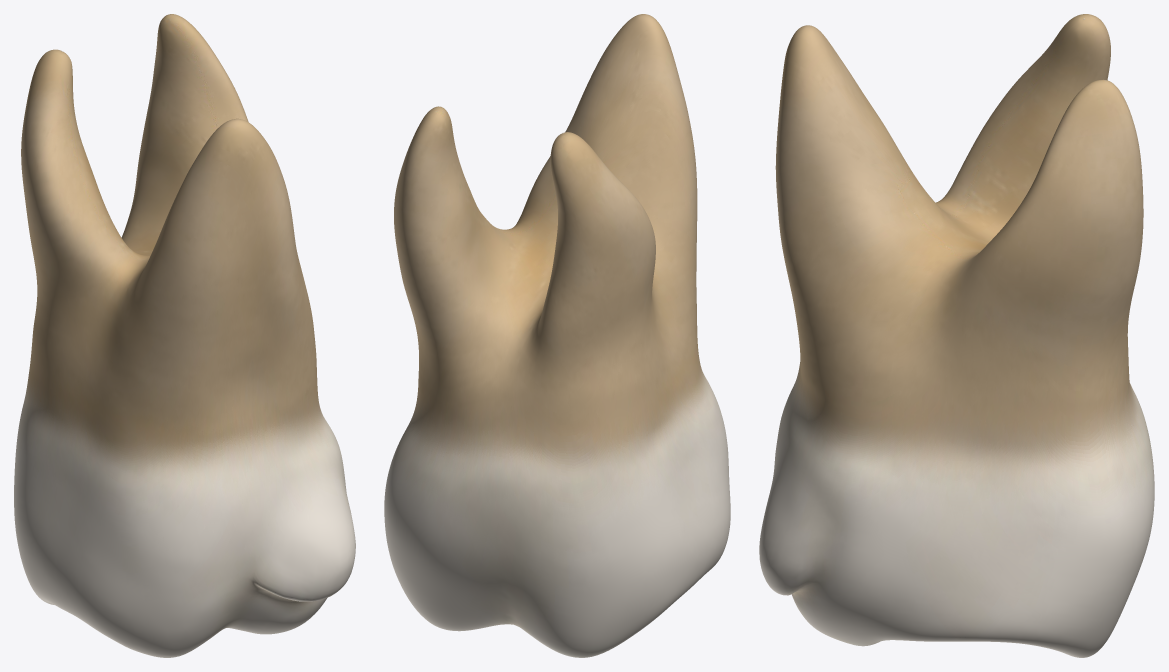
The model's file is maxillary_first_molar_with_cusp_of_carabelli.glb.
3 renders of one model, left to right at view 1: azimuth 30°, elevation 25°; view 2: azimuth 150°, elevation 25°; view 3: azimuth 270°, elevation 25°, orthographic. The views are drawn at different scales.
Parts seen in each view (by area): view 1: Object_4; view 2: Object_4; view 3: Object_4.
Boxes of the visible parts, bbox=[...] form: Object_4: bbox=[14, 14, 355, 657]; Object_4: bbox=[384, 14, 730, 657]; Object_4: bbox=[759, 14, 1154, 657].
Size of the model in its own units: 0.4025 by 0.7838 by 0.4719.
Materials: 2 (1 with a texture image).
